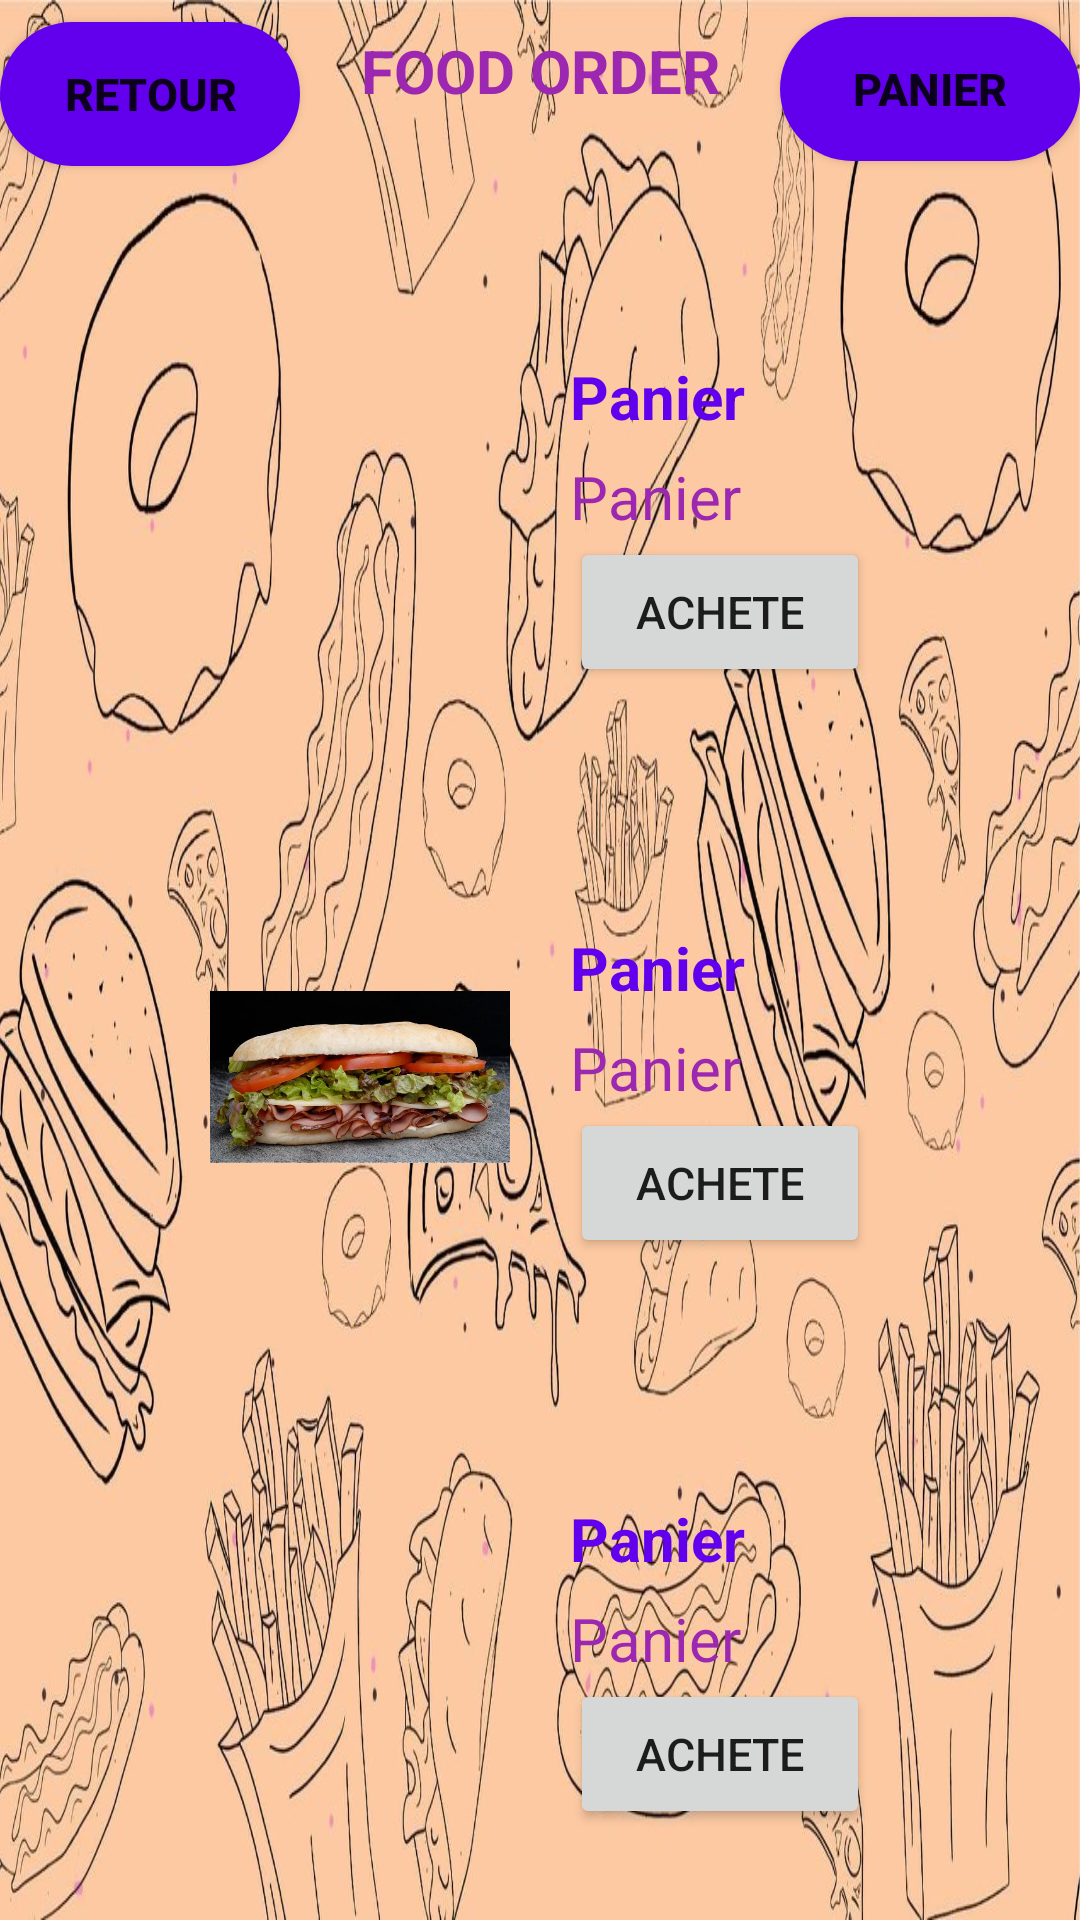

Icon bounding boxes for this 1080px x 1920px phone screenshot, format (x1, y1, x2, y2):
sandwich: (210, 927, 510, 1227)
